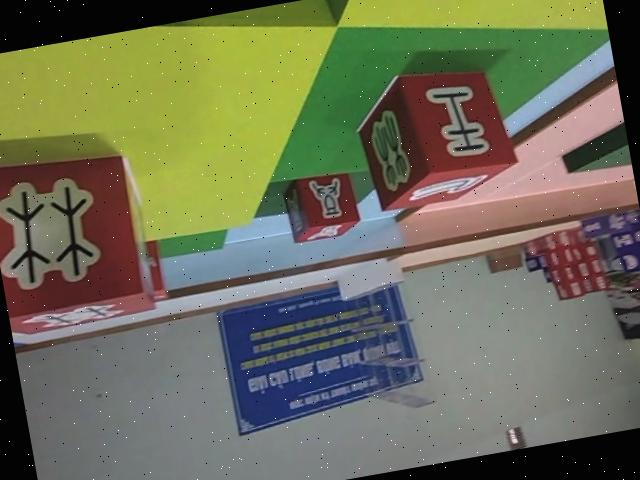R2 Fake: (346, 53, 527, 225)
R2 Real: (0, 137, 159, 341), (281, 167, 364, 248)
